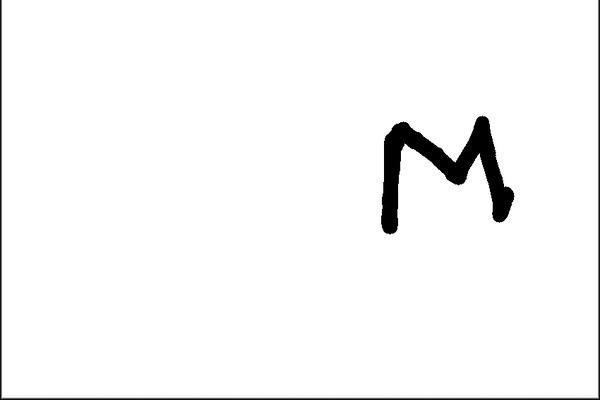M: (376, 115, 516, 233)
